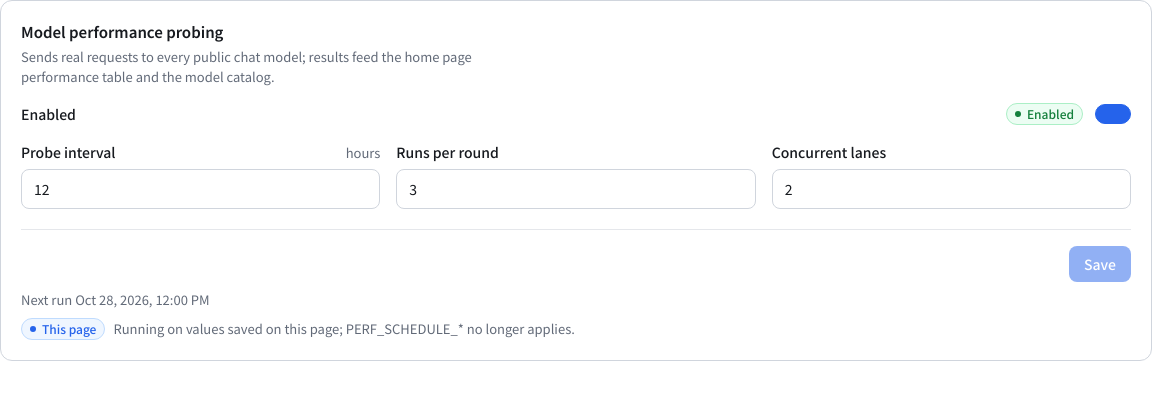
Test: ProbeScheduleForm › attaches a server 422 field error to the matching input
The image size is (1152, 404).
Replace the text in the number field labelled "Runs per round" with "9": [576, 189] box [396,169,756,209]
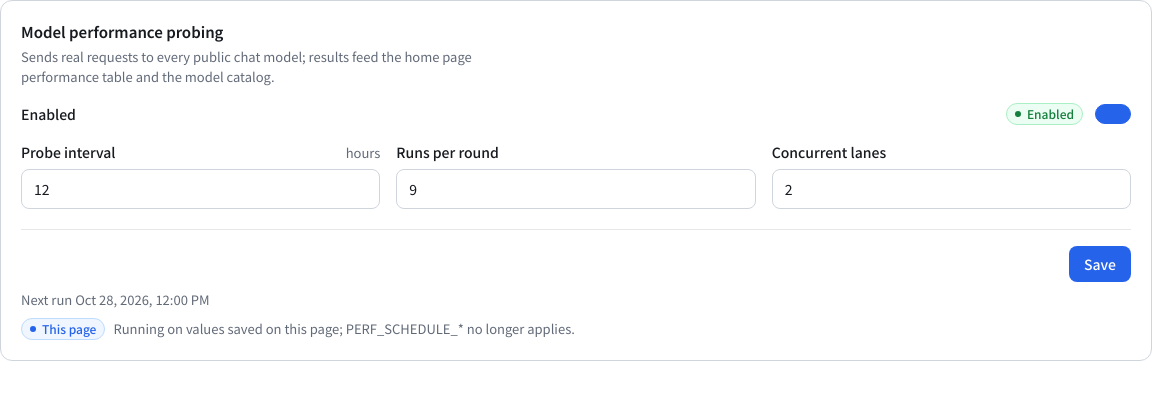
Click the button "Save": [1100, 264] box [1069,246,1131,282]
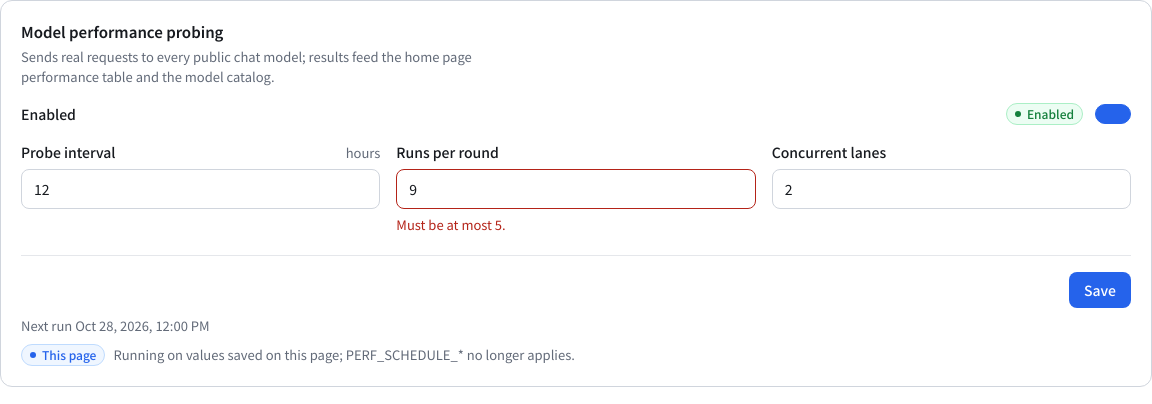
Expected: the text "Must be at most 5." is shown, [396,215,506,234]
